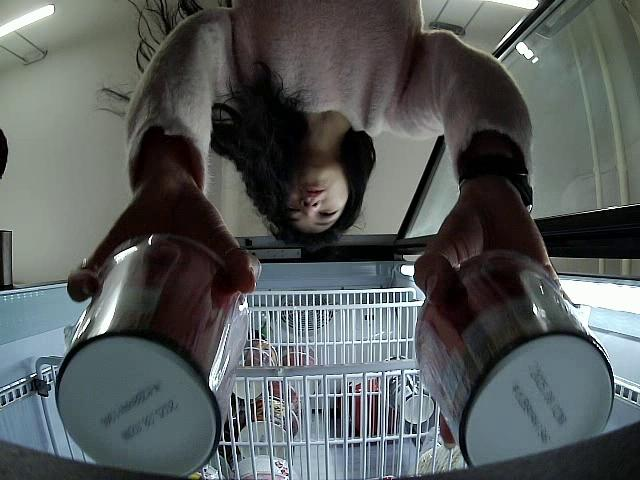00_hand: (64, 174, 258, 294), (407, 192, 561, 296)
02_shinRamen_S: (55, 239, 249, 469), (414, 251, 613, 466)
